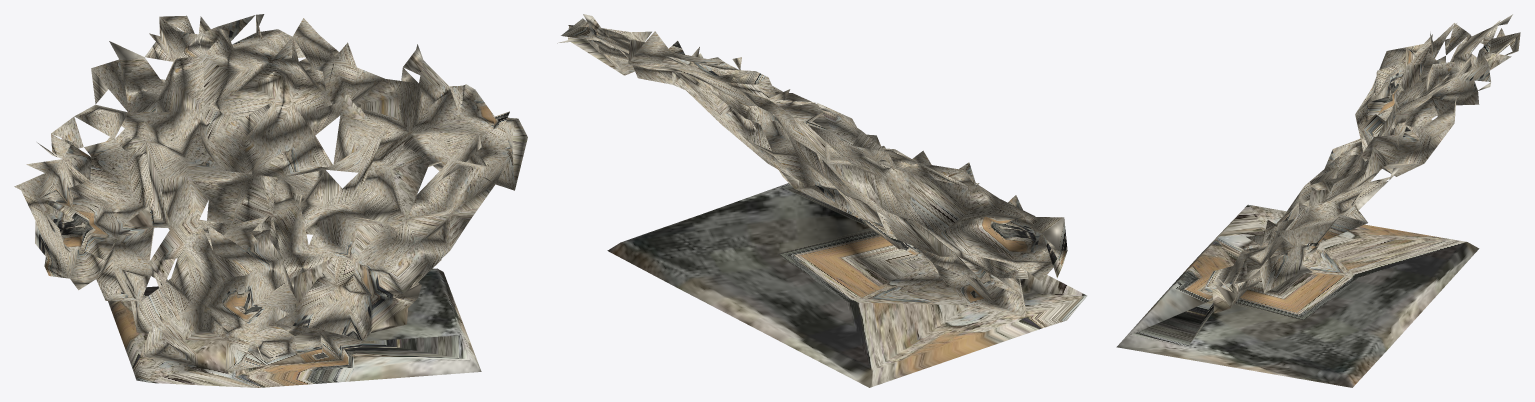
File: table-coral-lod.glb
The picture shows the model from 3 angles, left to right: view 1: azimuth 30°, elevation 25°; view 2: azimuth 150°, elevation 25°; view 3: azimuth 270°, elevation 25°; orthographic projection. The views are drawn at different scales.
Size of the model in its own units: 1.96 by 1.01 by 1.47.
1 material, 1 textured.
